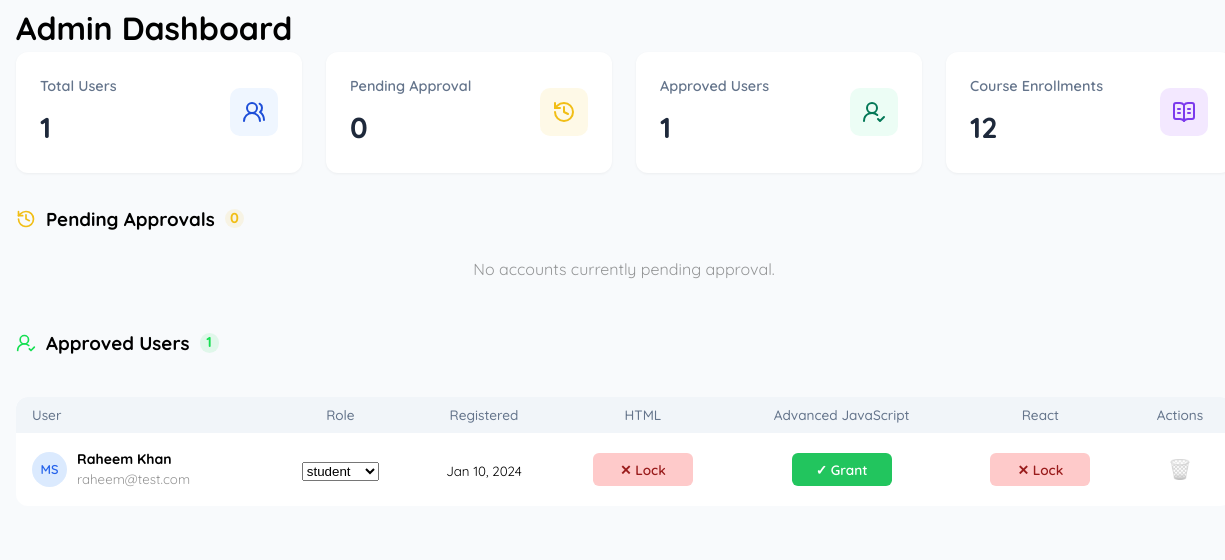
Test case: AdminDashboardScreen Operations › executes handleDeleteUser when delete action is confirmed
Expected: the text "Raheem" is shown, x1=77 y1=450 x2=133 y2=468
Click the button with test id "delete-user-usr_2" at (1180, 469), box x1=1168 y1=457 x2=1192 y2=481
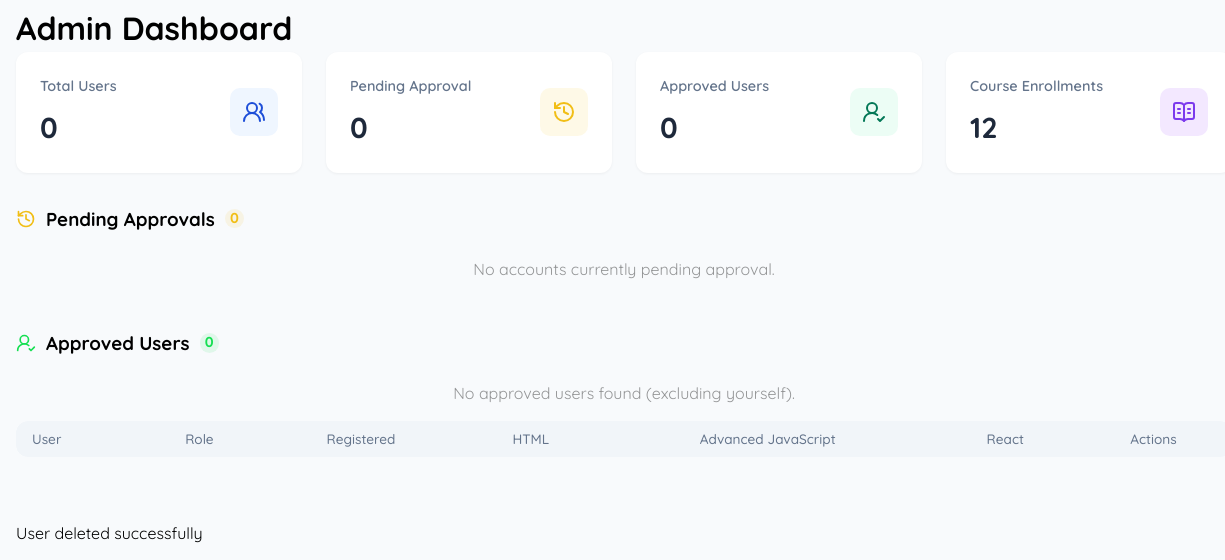
Expected: the text "Raheem" is gone
